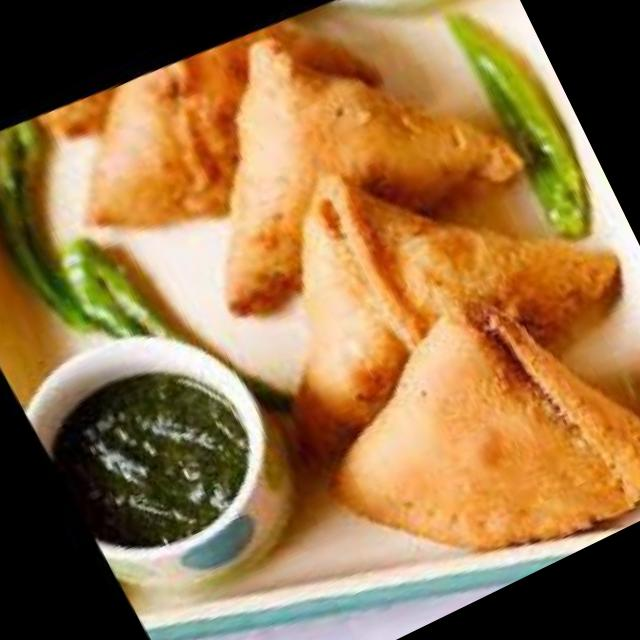samosa: (171, 62, 640, 506), (263, 229, 640, 626), (110, 0, 540, 347), (26, 0, 412, 283)
